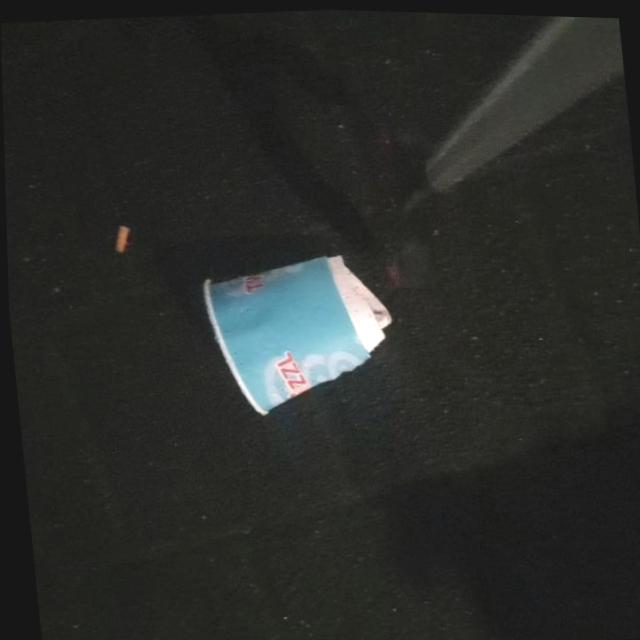Paper: (194, 243, 403, 423)
